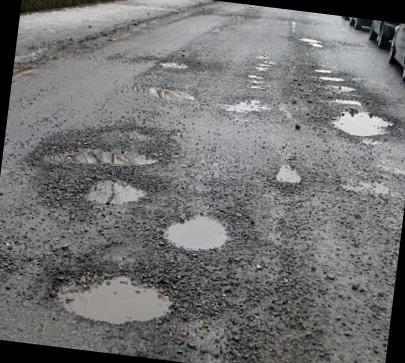pothole: (43, 258, 179, 360), (30, 119, 162, 184), (157, 208, 228, 260), (78, 171, 151, 213), (126, 74, 198, 111), (212, 90, 278, 126), (332, 110, 396, 147), (272, 156, 310, 192), (150, 51, 200, 78), (321, 81, 368, 109), (244, 48, 270, 93), (294, 36, 329, 51), (314, 75, 350, 85), (310, 66, 340, 74)
